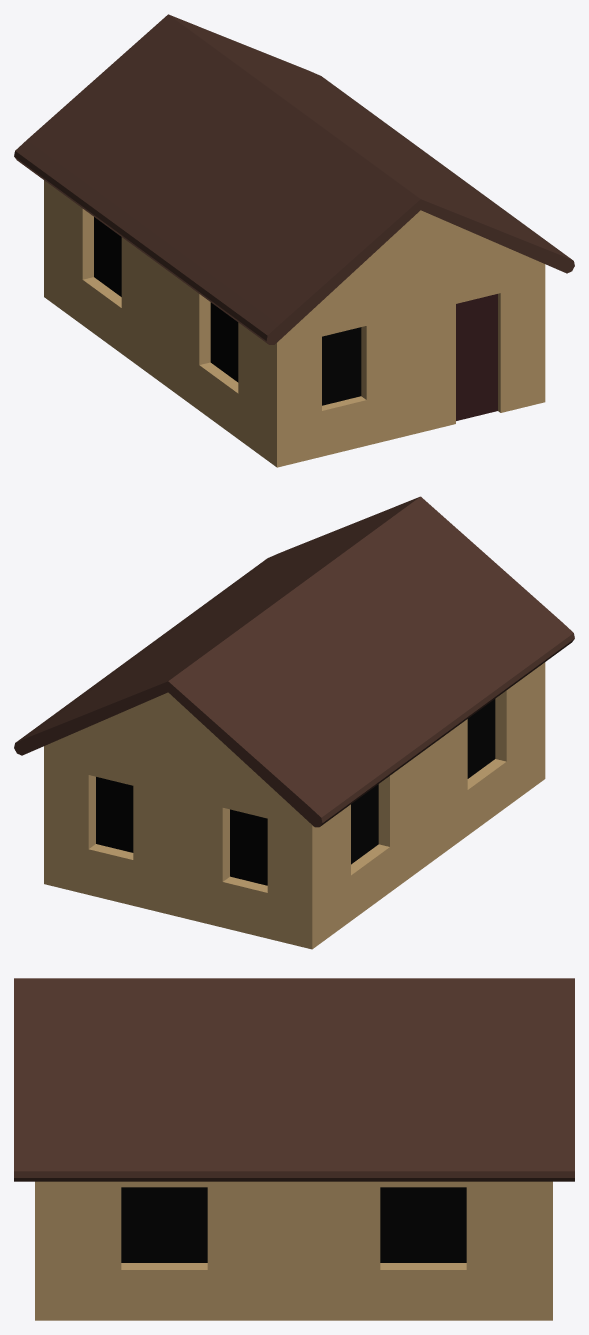
The model's file is House1.glb.
3 views of the same model, one above another, from view 1: azimuth 30°, elevation 25°; view 2: azimuth 150°, elevation 25°; view 3: azimuth 270°, elevation 25° (orthographic). The views are drawn at different scales.
Parts seen in each view (by area): view 1: House1; view 2: House1; view 3: House1.
Boxes of the visible parts, x1,y1,x2,y2 form: House1: [14, 14, 574, 467]; House1: [14, 496, 574, 949]; House1: [14, 978, 574, 1320].
Size of the model in its own units: 4.59 by 3.45 by 6.5.
